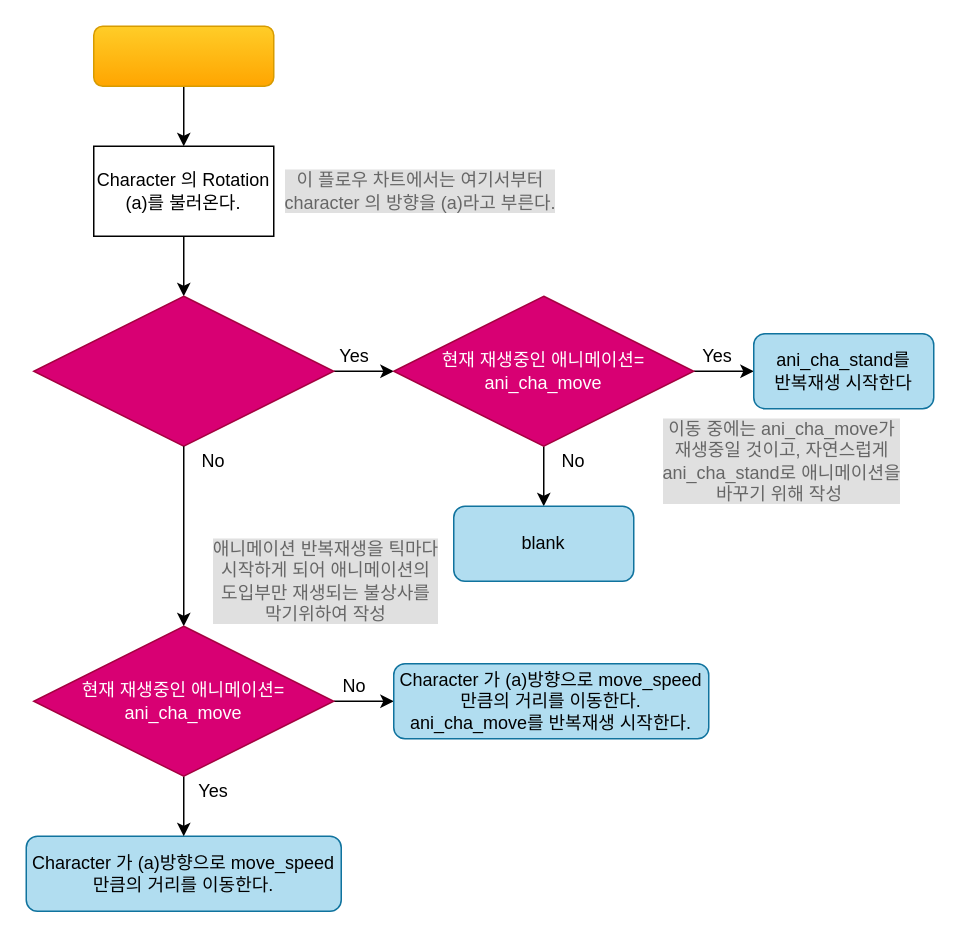
This 960x938 diagram has some shape labels left out. The shapes that lost their labels are listed below. From the top down, each one's centre as x and y in pixels, then its label:
At (183,55): "방향키 입력중".
At (183,370): "bool wall_check = true".
